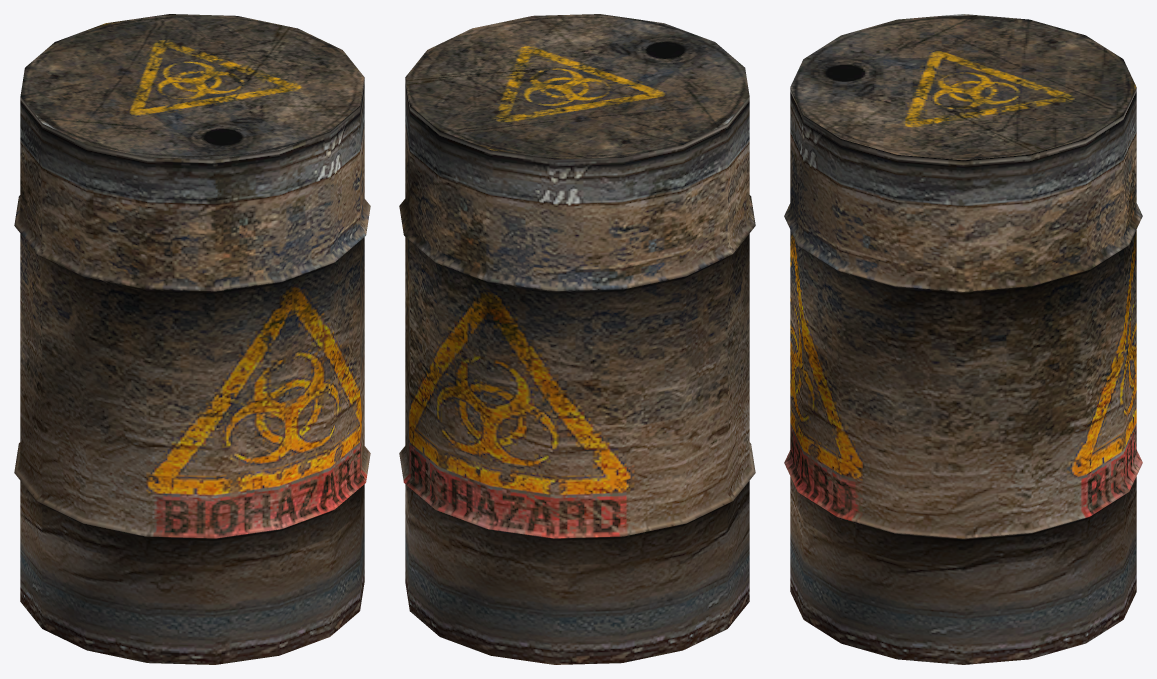
The model's file is biohazard.dae.
3 views of the same model, side by side, from view 1: azimuth 30°, elevation 25°; view 2: azimuth 150°, elevation 25°; view 3: azimuth 270°, elevation 25° (orthographic).
Parts seen in each view (by area): view 1: MetalBarrel1; view 2: MetalBarrel1; view 3: MetalBarrel1.
Boxes of the visible parts, left/top/right/bottom form: MetalBarrel1: left=14, top=14, right=370, bottom=664; MetalBarrel1: left=399, top=14, right=755, bottom=664; MetalBarrel1: left=784, top=14, right=1142, bottom=664.
Bounding box in the file's own units: 1.85 × 1.85 × 2.87.
1 material, 1 textured.
